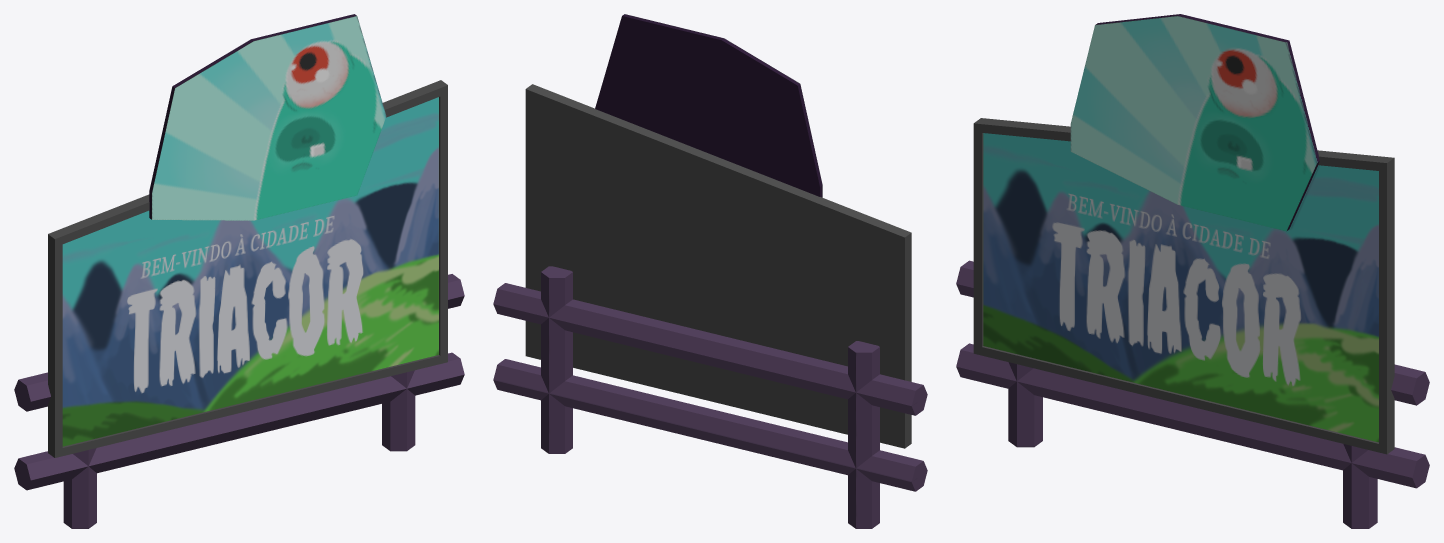
File: placa bem-vindo.fbx
3 views of the same model, side by side, from view 1: azimuth 30°, elevation 25°; view 2: azimuth 150°, elevation 25°; view 3: azimuth 330°, elevation 25° (orthographic). The views are drawn at different scales.
Parts seen in each view (by area): view 1: Placa de bem-vindo; view 2: Placa de bem-vindo; view 3: Placa de bem-vindo.
Part boxes in pixels (<box>): Placa de bem-vindo: <box>14,14,464,528</box>; Placa de bem-vindo: <box>493,14,927,528</box>; Placa de bem-vindo: <box>956,14,1429,528</box>.
Size of the model in its own units: 800 by 799 by 72.52.
